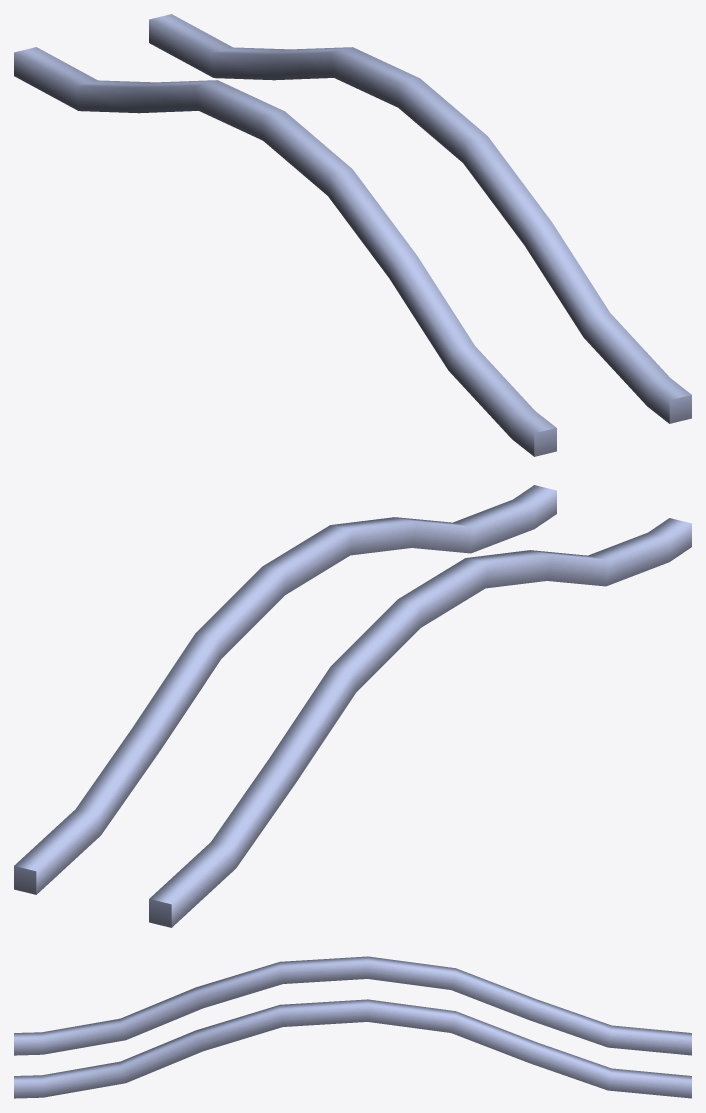
Rendered from kenney-train-railroad-rail-straight-bump-up.glb.
The picture shows the model from 3 angles, top to bottom: view 1: azimuth 30°, elevation 25°; view 2: azimuth 150°, elevation 25°; view 3: azimuth 270°, elevation 25°; orthographic projection. The views are drawn at different scales.
Visible parts, largest first — view 1: railroad-rail-straight-bump-up; view 2: railroad-rail-straight-bump-up; view 3: railroad-rail-straight-bump-up.
Boxes of the visible parts, x1,y1,x2,y2 form: railroad-rail-straight-bump-up: (14, 14, 691, 456); railroad-rail-straight-bump-up: (14, 485, 691, 927); railroad-rail-straight-bump-up: (14, 956, 691, 1098).
Bounding box in the file's own units: 0.6997 × 0.5986 × 4.
1 material, 1 textured.
